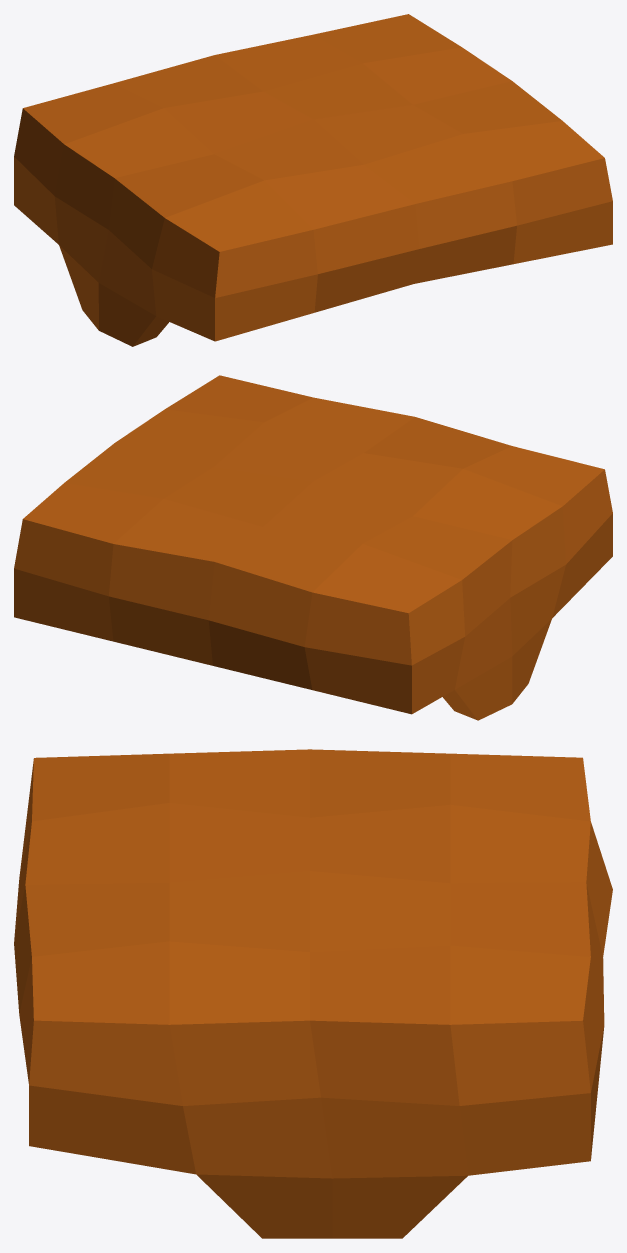
Rendered from Character LeatherHead.fbx.
The picture shows the model from 3 angles, top to bottom: view 1: azimuth 30°, elevation 25°; view 2: azimuth 150°, elevation 25°; view 3: azimuth 270°, elevation 25°; orthographic projection. The views are drawn at different scales.
Parts seen in each view (by area): view 1: LeatherHead; view 2: LeatherHead; view 3: LeatherHead.
Boxes of the visible parts, x1,y1,x2,y2 form: LeatherHead: (14, 14, 612, 346); LeatherHead: (14, 375, 612, 720); LeatherHead: (14, 749, 612, 1238).
Bounding box in the file's own units: 159 × 60.63 × 141.
